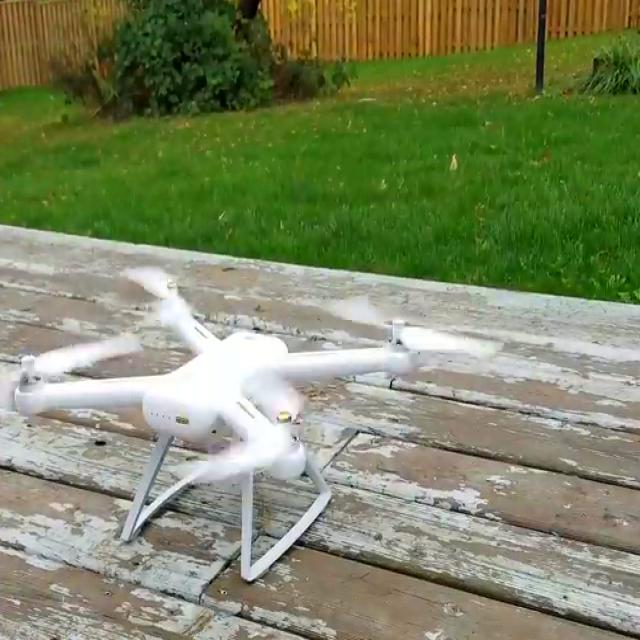drone: (0, 256, 481, 517)
